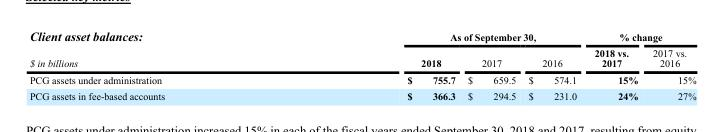table: (28, 29, 695, 101)
table column: (28, 29, 285, 101), (285, 29, 460, 101), (521, 29, 584, 101), (460, 29, 521, 101), (584, 29, 644, 101), (644, 29, 695, 101)
table column header: (28, 29, 695, 71)
table row: (28, 44, 695, 71), (28, 71, 695, 87), (28, 29, 695, 44), (28, 87, 695, 101)
table spanning cell: (28, 29, 285, 71), (285, 29, 584, 44), (584, 29, 695, 44)
